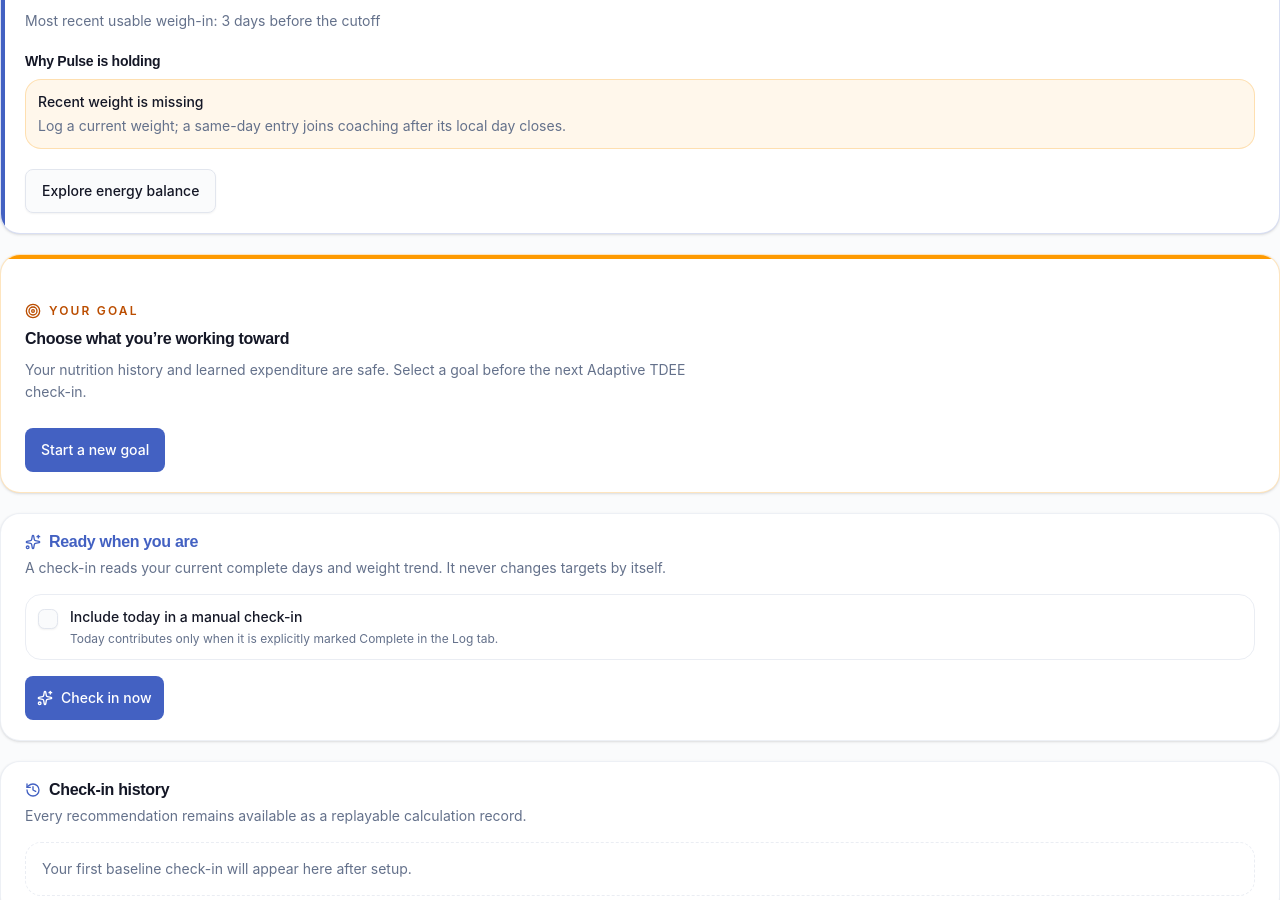
Scenario: AdaptiveCoach › offers goal selection when no active goal exists
(page scrolled)
Expected: the heading "Choose what you’re working toward" is shown, [25, 330, 289, 346]
Click the button "Start a new goal".
click(95, 450)  # box [25, 428, 165, 472]
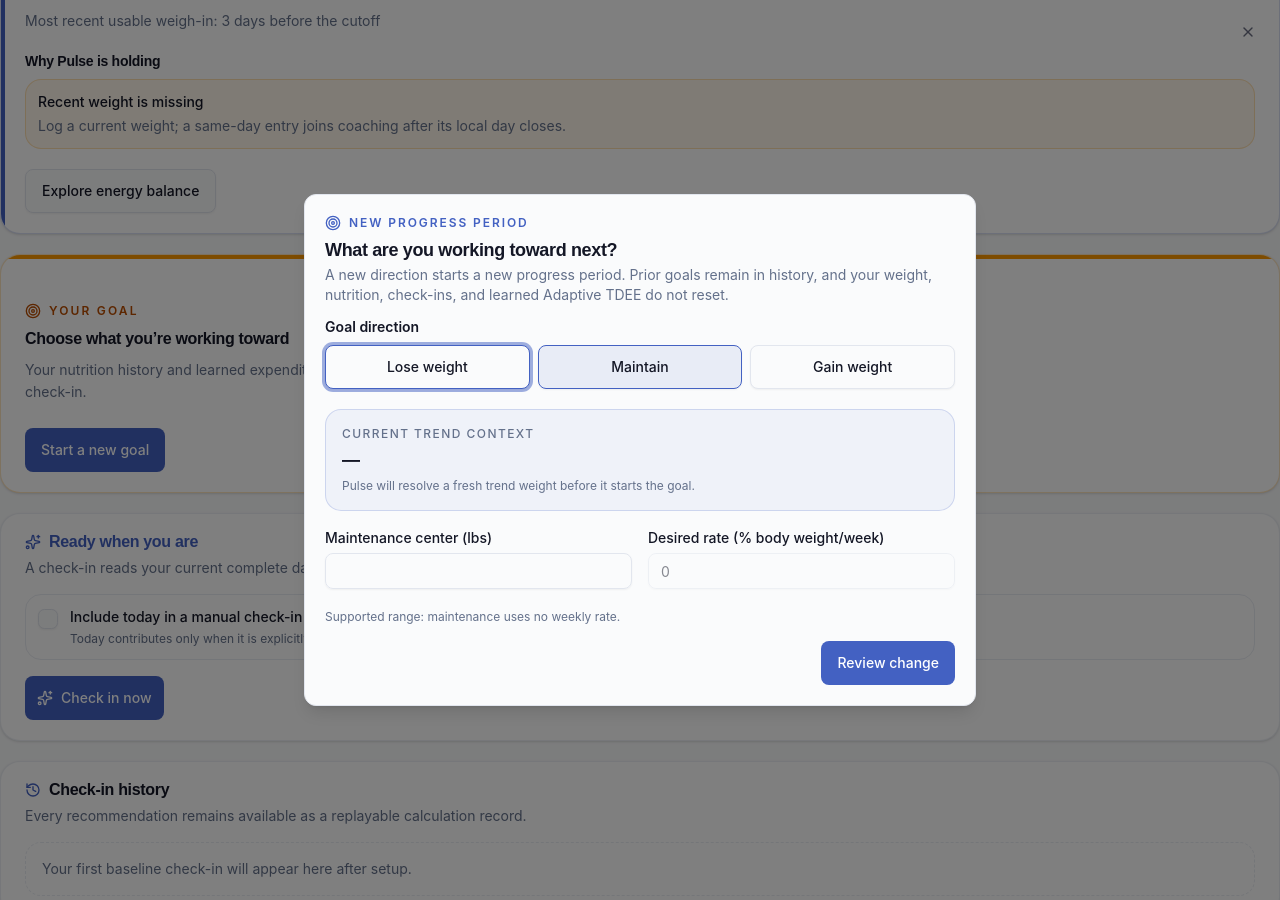
Expected: the dialog is shown, [304, 194, 976, 706]
Expected: the heading "What are you working toward next?" is shown, [325, 240, 617, 260]
